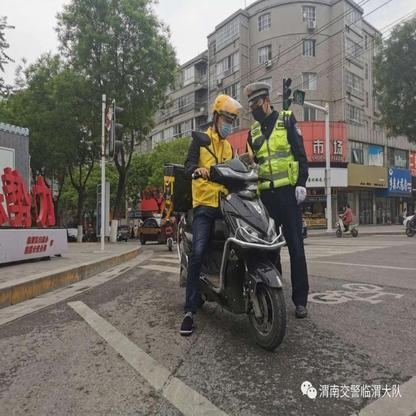target: (160, 90, 287, 351)
